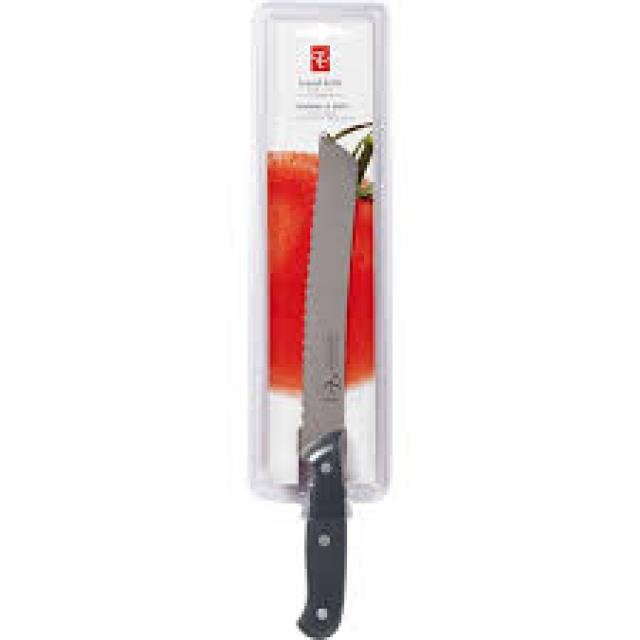knives: (264, 103, 400, 640)
